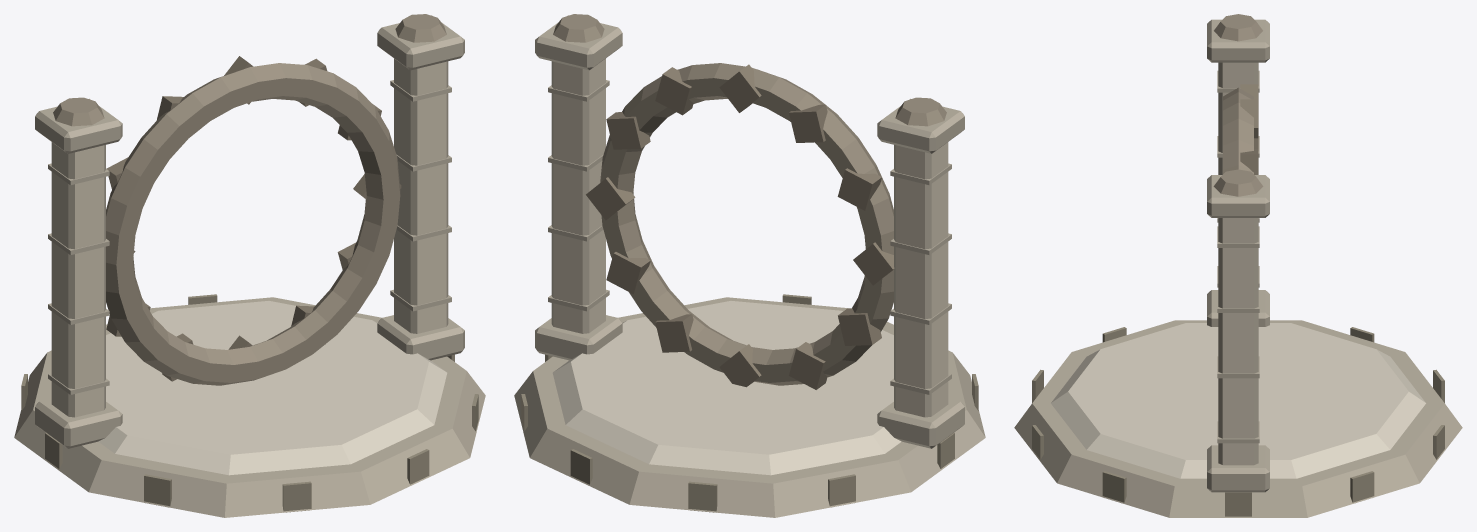
Rendered from portal-rahmen.glb.
3 views of the same model, side by side, from view 1: azimuth 30°, elevation 25°; view 2: azimuth 150°, elevation 25°; view 3: azimuth 270°, elevation 25° (orthographic). The views are drawn at different scales.
Visible parts, largest first — view 1: rahmen-m; view 2: rahmen-m; view 3: rahmen-m.
Part boxes in pixels (x1,y1,x2,y2): rahmen-m: (14,14,485,517); rahmen-m: (514,14,985,517); rahmen-m: (1014,14,1462,517).
Size of the model in its own units: 4.8 by 4.05 by 5.
